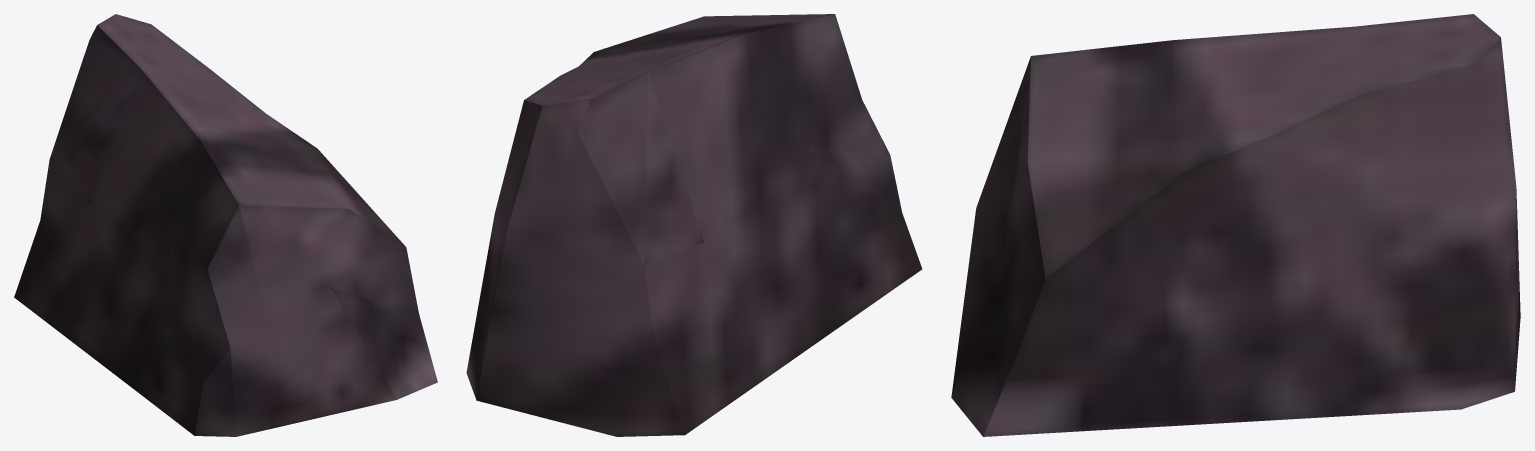
Rendered from env_ruin_rubble_a-_7BPqEe7.glb.
3 views of the same model, side by side, from view 1: azimuth 30°, elevation 25°; view 2: azimuth 150°, elevation 25°; view 3: azimuth 270°, elevation 25° (orthographic). The views are drawn at different scales.
Visible parts, largest first — view 1: env_ruin_rubble_a_hy_v1; view 2: env_ruin_rubble_a_hy_v1; view 3: env_ruin_rubble_a_hy_v1.
Part boxes in pixels (x1=…): env_ruin_rubble_a_hy_v1: x1=14, y1=14, x2=437, y2=436; env_ruin_rubble_a_hy_v1: x1=466, y1=14, x2=922, y2=436; env_ruin_rubble_a_hy_v1: x1=951, y1=14, x2=1520, y2=436.
Size of the model in its own units: 0.3742 by 0.382 by 0.5997.
1 material, 1 textured.
